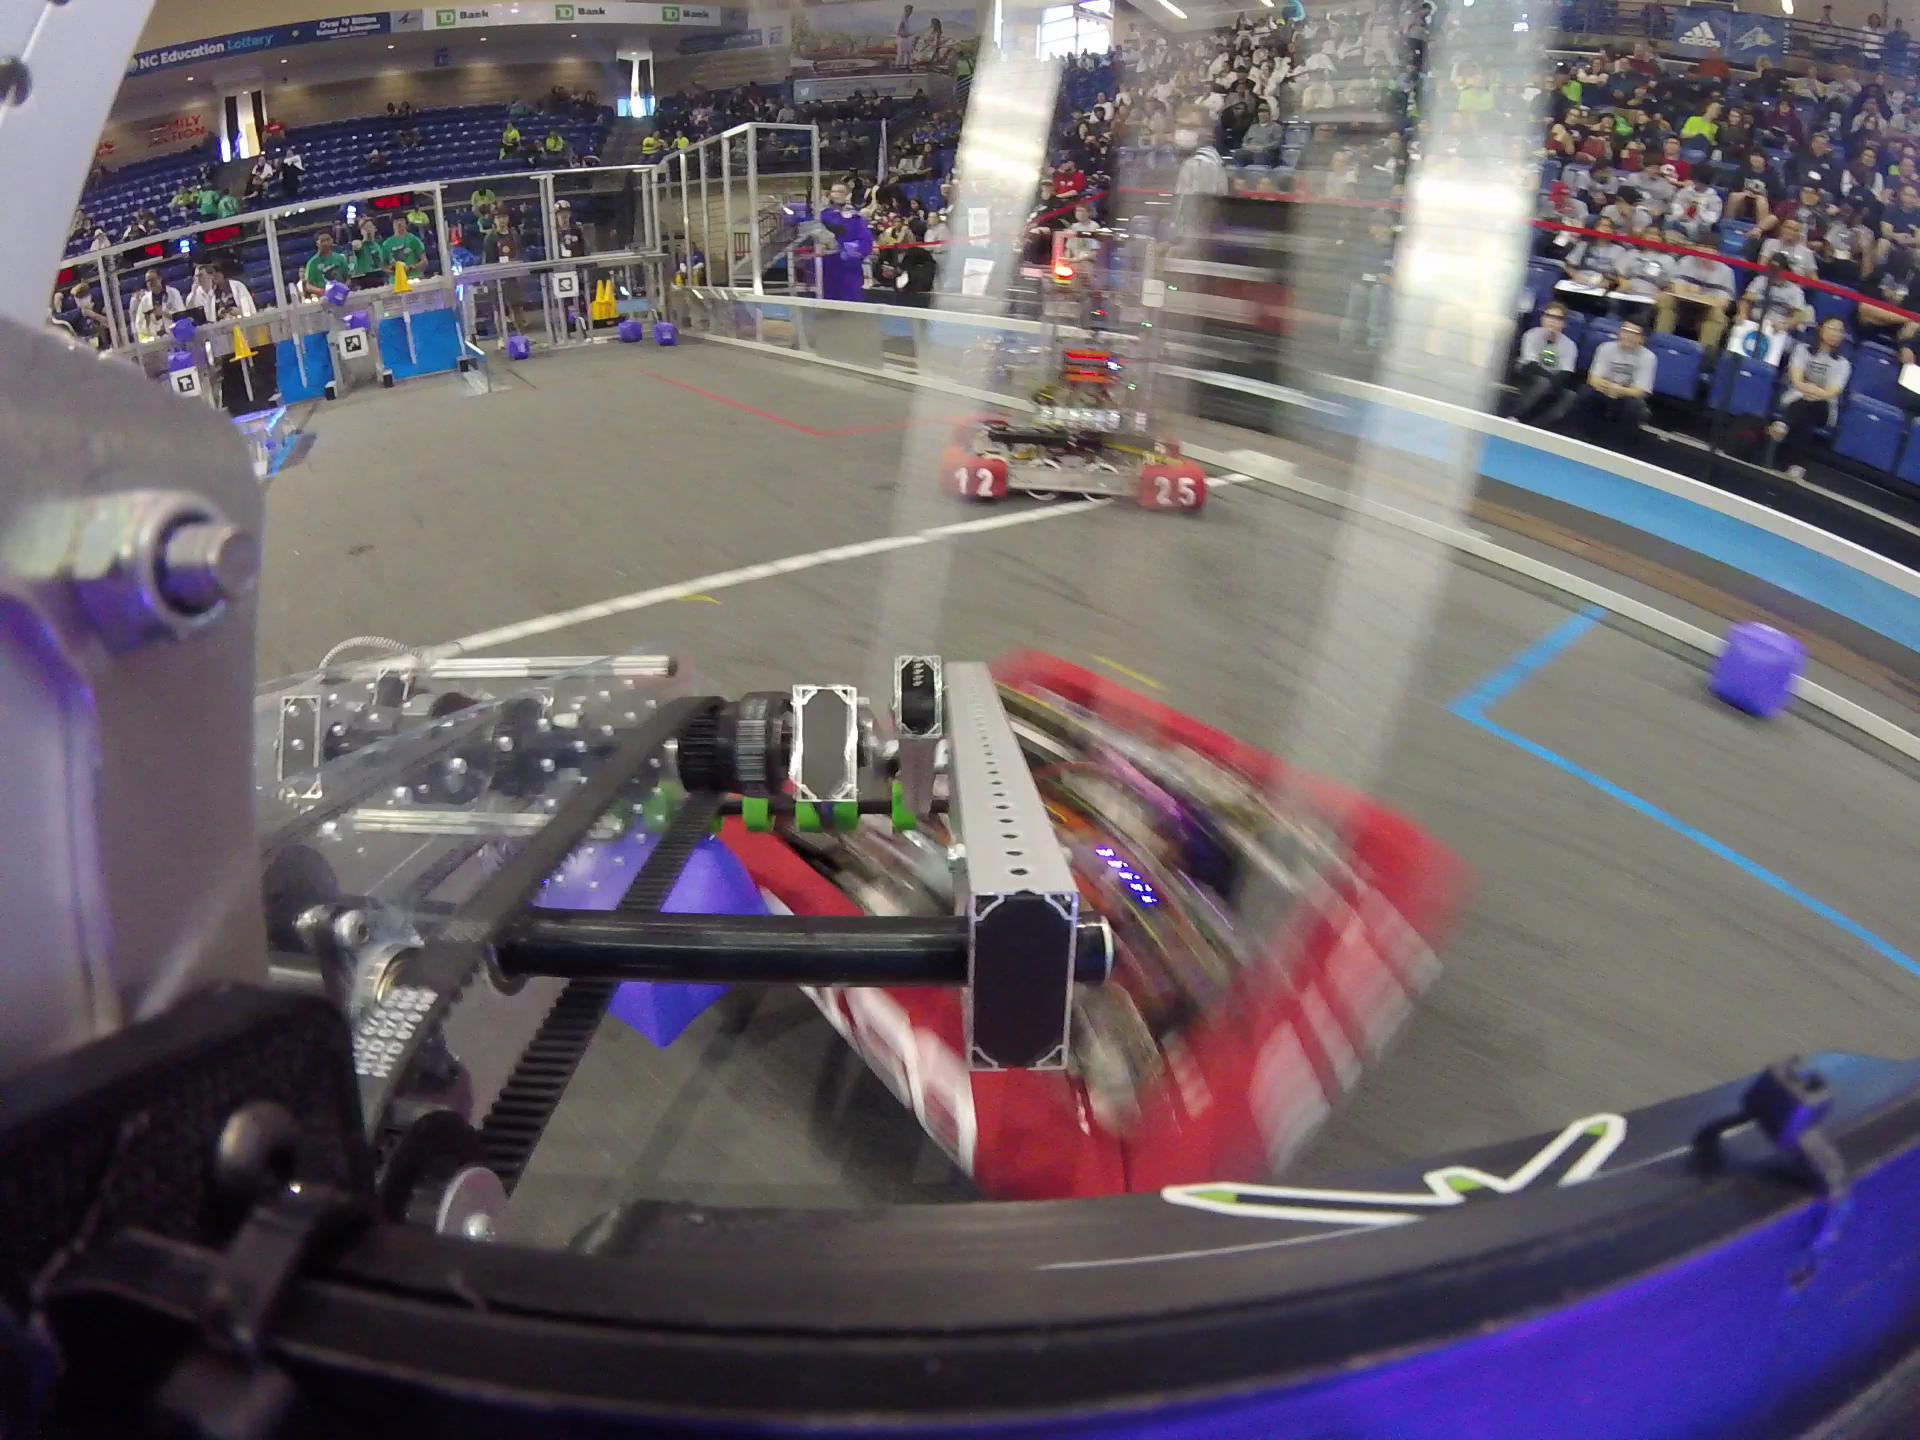robot: (711, 644, 1468, 1199), (936, 188, 1209, 511)
